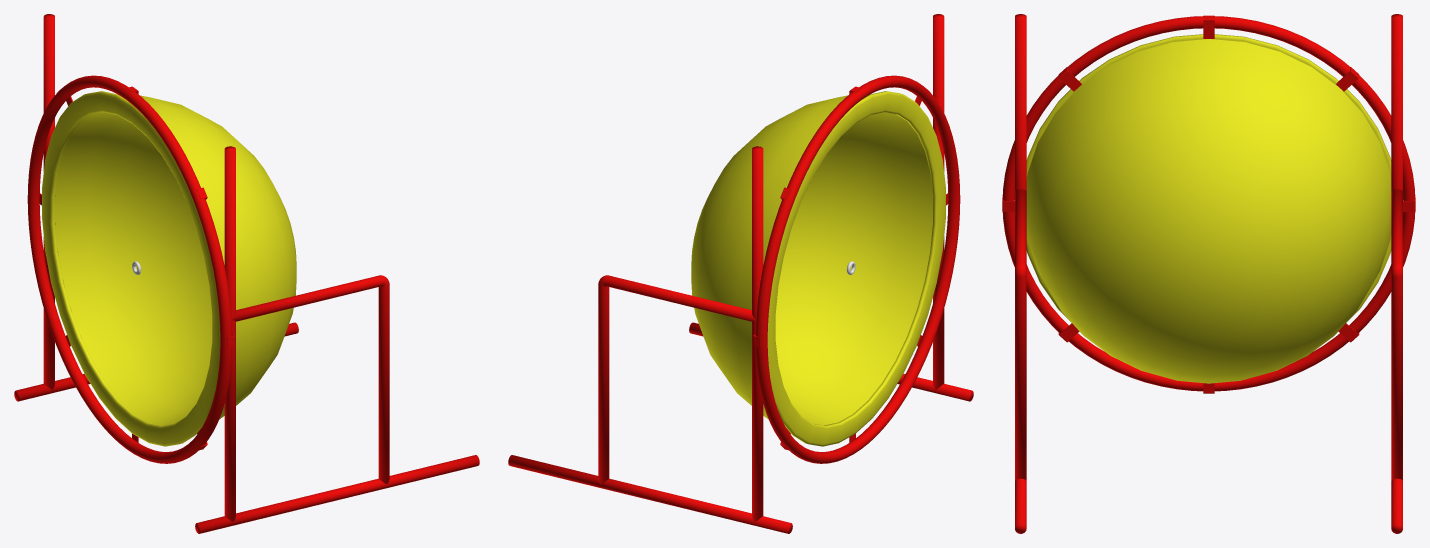
File: Parabola de sonido ajustada 1.fbx
3 renders of one model, left to right at view 1: azimuth 30°, elevation 25°; view 2: azimuth 150°, elevation 25°; view 3: azimuth 270°, elevation 25°, orthographic. The views are drawn at different scales.
Visible parts, largest first — view 1: Concavidad, Soporte 2, Marco circular interno; view 2: Concavidad, Soporte 2, Marco circular interno; view 3: Concavidad, Soporte 2, Marco circular interno, Asegurador.
Part boxes in pixels (box(x1,y1,x2,y2)): Concavidad: box(55, 95, 296, 425); Soporte 2: box(14, 14, 479, 533); Marco circular interno: box(42, 91, 220, 446); Concavidad: box(691, 95, 932, 425); Soporte 2: box(508, 14, 973, 533); Marco circular interno: box(767, 91, 945, 446); Concavidad: box(1026, 39, 1391, 383); Soporte 2: box(1002, 14, 1415, 533); Marco circular interno: box(1026, 34, 1391, 321); Asegurador: box(1002, 15, 1415, 393).
Size of the model in its own units: 349 by 283 by 366.
